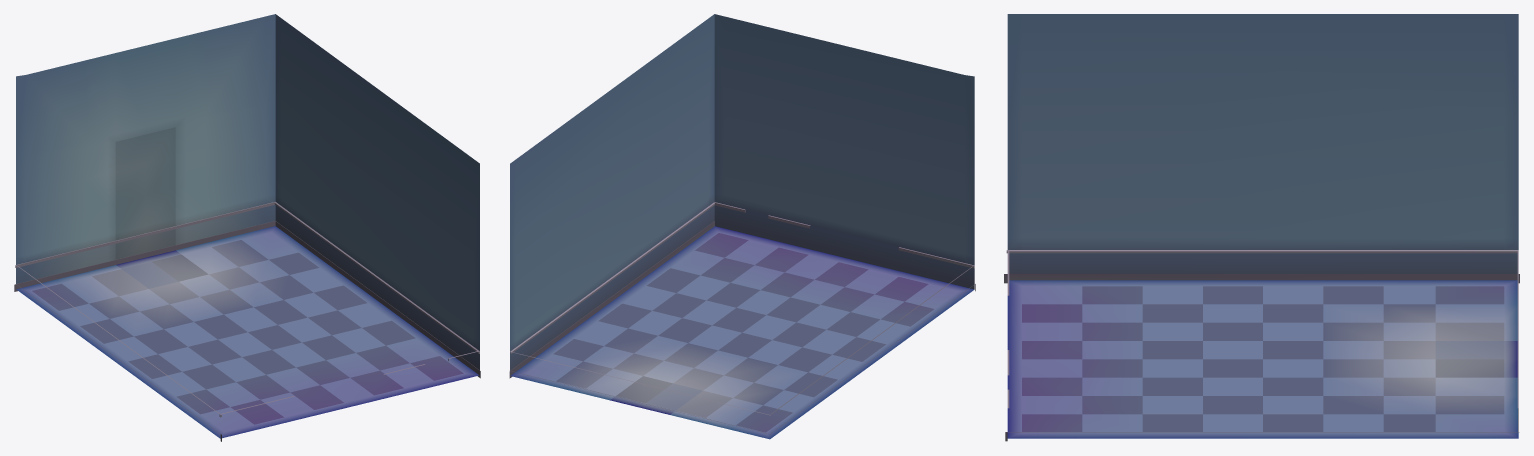
Rendered from Garage_03.glb.
3 renders of one model, left to right at view 1: azimuth 30°, elevation 25°; view 2: azimuth 150°, elevation 25°; view 3: azimuth 270°, elevation 25°, orthographic. The views are drawn at different scales.
Visible parts, largest first — view 1: Garage_03; view 2: Garage_03; view 3: Garage_03.
Boxes of the visible parts, box(x1,y1,x2,y2) form: Garage_03: box(14, 14, 480, 441); Garage_03: box(509, 14, 975, 439); Garage_03: box(1004, 14, 1519, 441).
Size of the model in its own units: 62.34 by 48.85 by 84.88.
